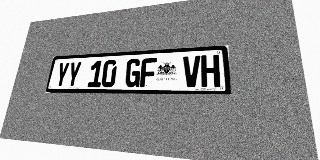0: (101, 60, 117, 87)
1: (87, 60, 104, 87)
F: (140, 58, 157, 87)
G: (124, 58, 141, 87)
H: (201, 54, 220, 87)
V: (183, 55, 201, 87)
Y: (66, 61, 82, 87), (54, 62, 70, 87)
